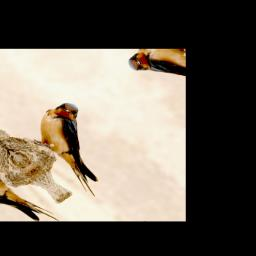Swallow: (12, 97, 144, 200)
